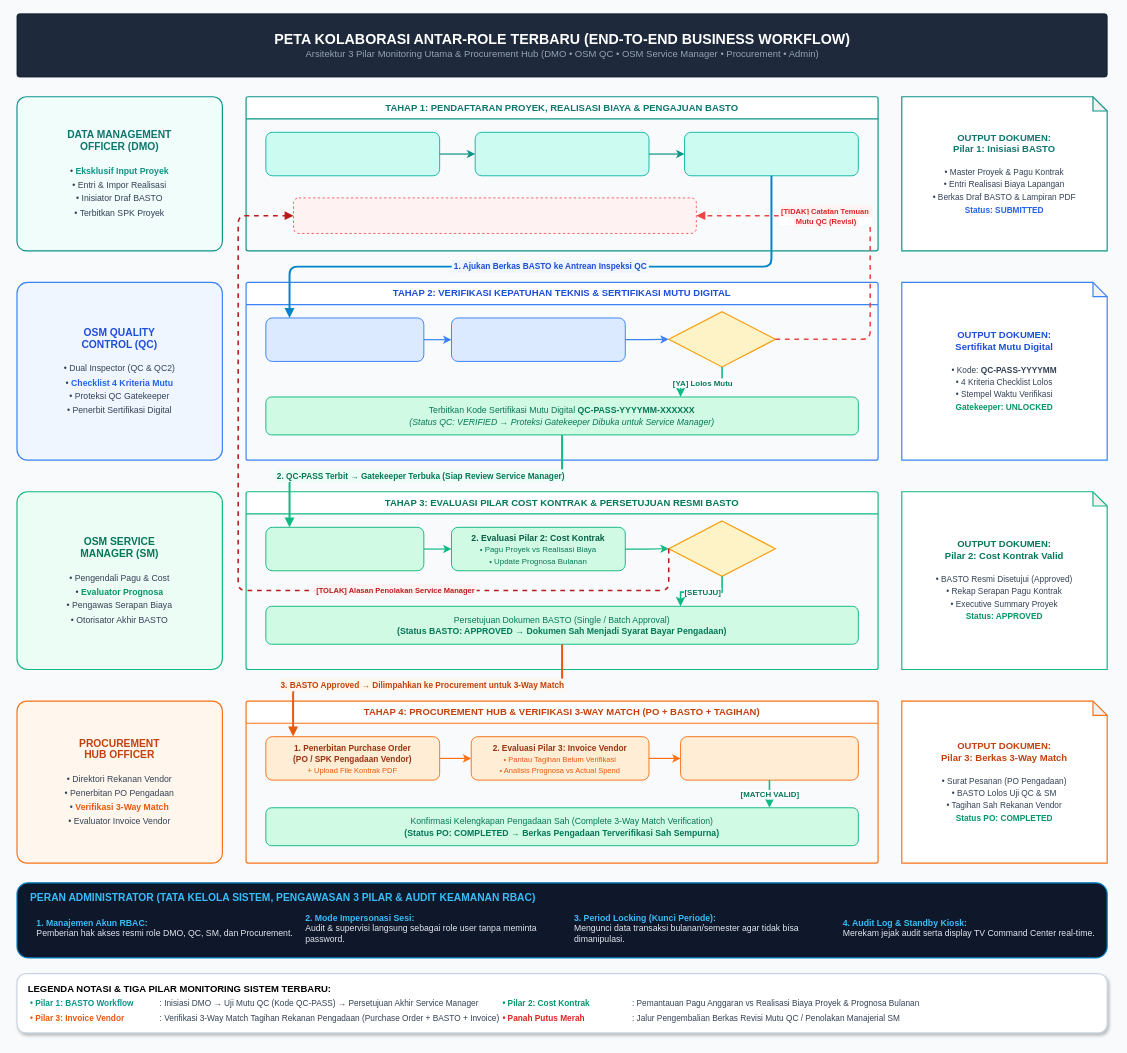
Image size: 1127x1053. Some labels were removed from this diagram. Here are the shapes that lost their labels. From the top down, the centre of each, then its label:
At [352,153]: "1. Pendaftaran Master Proyek & Pagu Kontrak (Hak DMO) + Entri / Impor Realisasi".
At [561,153]: "2. Pembuatan Draf BASTO & Unggah Lampiran PDF (Status: DRAFT)".
At [771,153]: "3. Pengajuan Berkas BASTO (Single / Batch Submit) Menuju Antrean Inspeksi QC".
At [494,215]: "Unggah Ulang Berkas Revisi Pasca Temuan QC / Penolakan SM (Reupload Revision)".
At [344,339]: "1. Inspeksi Antrean BASTO & Unduh Lampiran Berkas PDF".
At [538,339]: "2. Evaluasi 4 Checklist QC: • Dok. Admin • SPK Match • BAUT Teknis • Bukti Fisik".
At [722,339]: "Lolos Mutu? (4 Kriteria)".
At [344,548]: "1. Buka BASTO Lolos QC (Tab: Ready to Approve)".
At [722,548]: "Persetujuan SM (Approve / Reject)?".
At [769,758]: "3. Rekonsiliasi 3-Way Match: PO + BASTO Approved + Tagihan".
